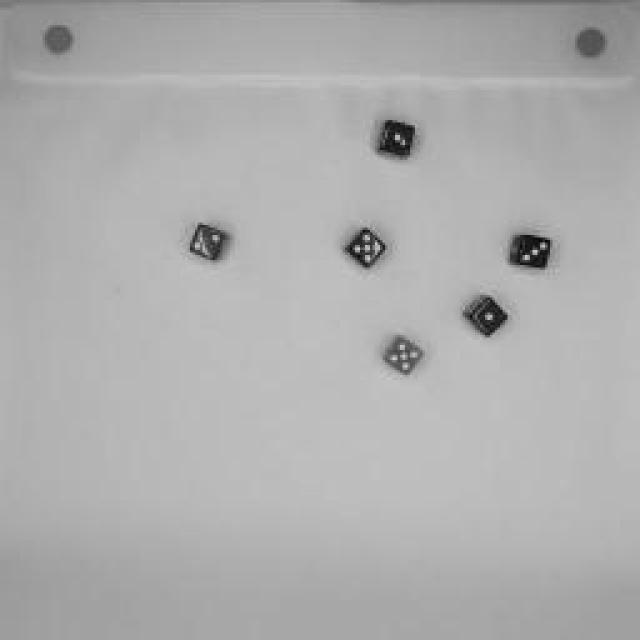dice_1: (450, 290, 515, 345), (368, 116, 420, 166)
dice_2: (180, 215, 235, 270)
dice_3: (508, 226, 558, 274)
dice_5: (340, 222, 390, 272), (375, 332, 425, 380)
